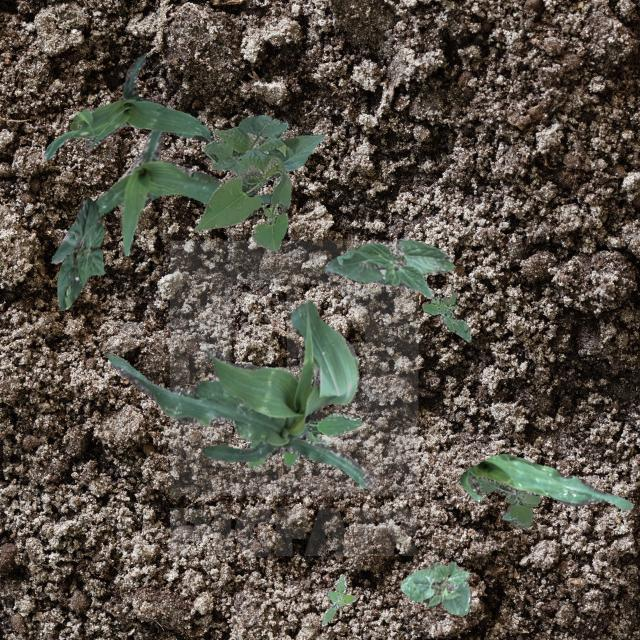crop: (105, 300, 372, 488), (50, 129, 269, 263), (42, 52, 214, 160), (194, 114, 324, 250), (458, 452, 632, 510), (322, 238, 454, 298), (56, 196, 105, 310), (400, 560, 470, 614)
weed: (246, 412, 360, 468), (476, 478, 540, 528), (420, 292, 470, 342), (320, 572, 354, 624)
